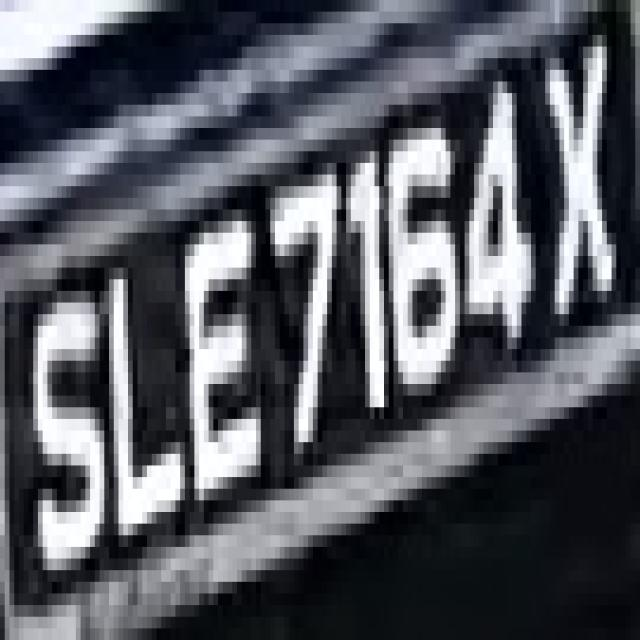1: (332, 117, 393, 466)
4: (446, 12, 536, 372)
6: (379, 105, 455, 419)
7: (246, 140, 342, 466)
E: (170, 174, 260, 524)
L: (104, 209, 185, 547)
S: (19, 267, 118, 594)
X: (536, 0, 630, 349)
